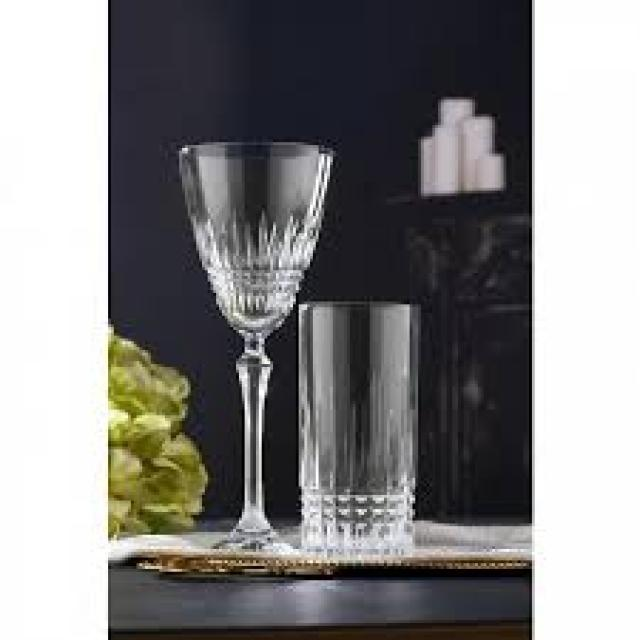Dry: (177, 140, 336, 556), (297, 298, 425, 555)
